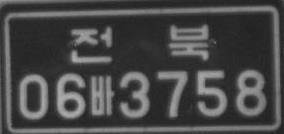0: (18, 72, 49, 120)
3: (119, 71, 151, 118)
5: (196, 68, 228, 118)
6: (56, 71, 85, 119)
7: (157, 69, 188, 117)
8: (235, 68, 266, 117)
바: (89, 75, 115, 116)
전북_D: (70, 23, 210, 63)
